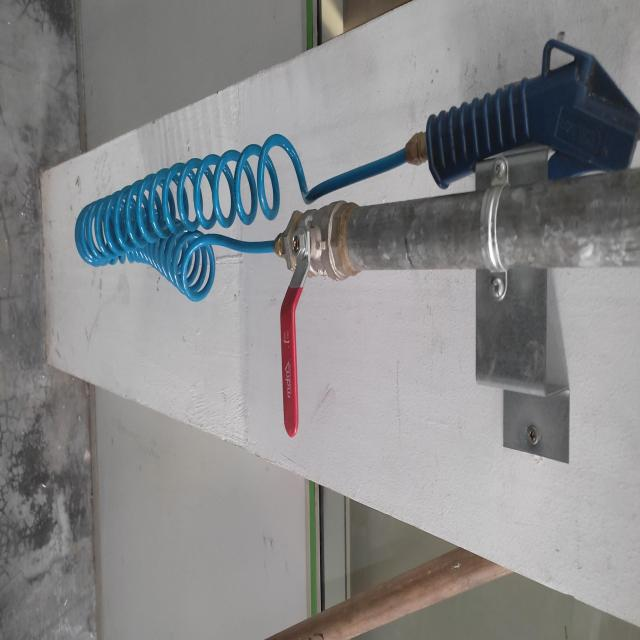closed_valve: (277, 194, 345, 439)
